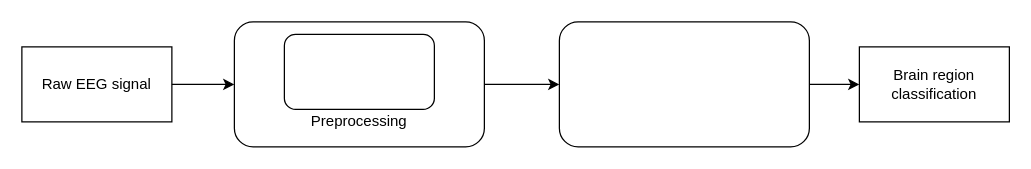
Some shapes in this 1031 by 169 pixel diagram are drawn without their labels. The shapes that lost their labels are listed below. From the top down, each one's centre as x and y in pixels, then its label:
At point (358, 71): "Noise reduction".
At point (683, 84): "Machine learning technique in this specific article SVM LSTM".
